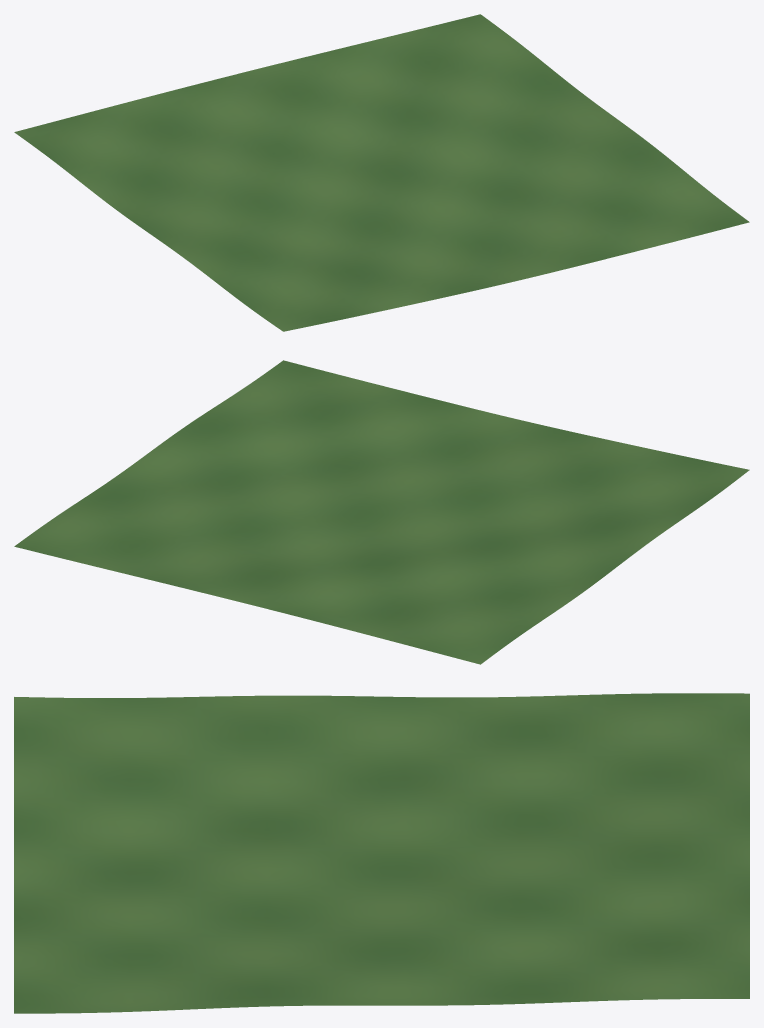
File: chunk_7_10.glb
The picture shows the model from 3 angles, top to bottom: view 1: azimuth 30°, elevation 25°; view 2: azimuth 150°, elevation 25°; view 3: azimuth 270°, elevation 25°; orthographic projection. The views are drawn at different scales.
Size of the model in its own units: 512 by 15.08 by 512.
